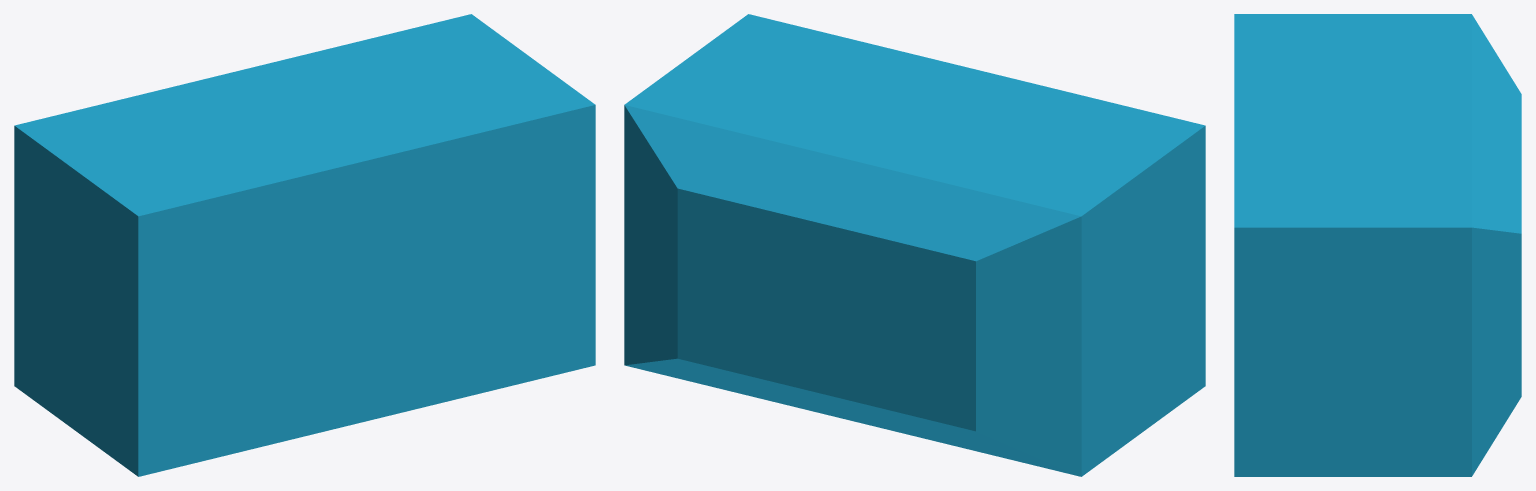
File: brick4.fbx
3 renders of one model, left to right at view 1: azimuth 30°, elevation 25°; view 2: azimuth 150°, elevation 25°; view 3: azimuth 270°, elevation 25°, orthographic. The views are drawn at different scales.
Parts seen in each view (by area): view 1: Cube; view 2: Cube; view 3: Cube.
Boxes of the visible parts, bbox=[...] form: Cube: bbox=[14, 14, 595, 476]; Cube: bbox=[624, 14, 1205, 476]; Cube: bbox=[1234, 14, 1521, 476].
Size of the model in its own units: 5190 by 2827 by 2953.
